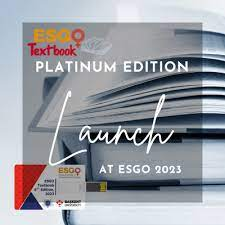book: (39, 76, 225, 225), (82, 132, 225, 184)
